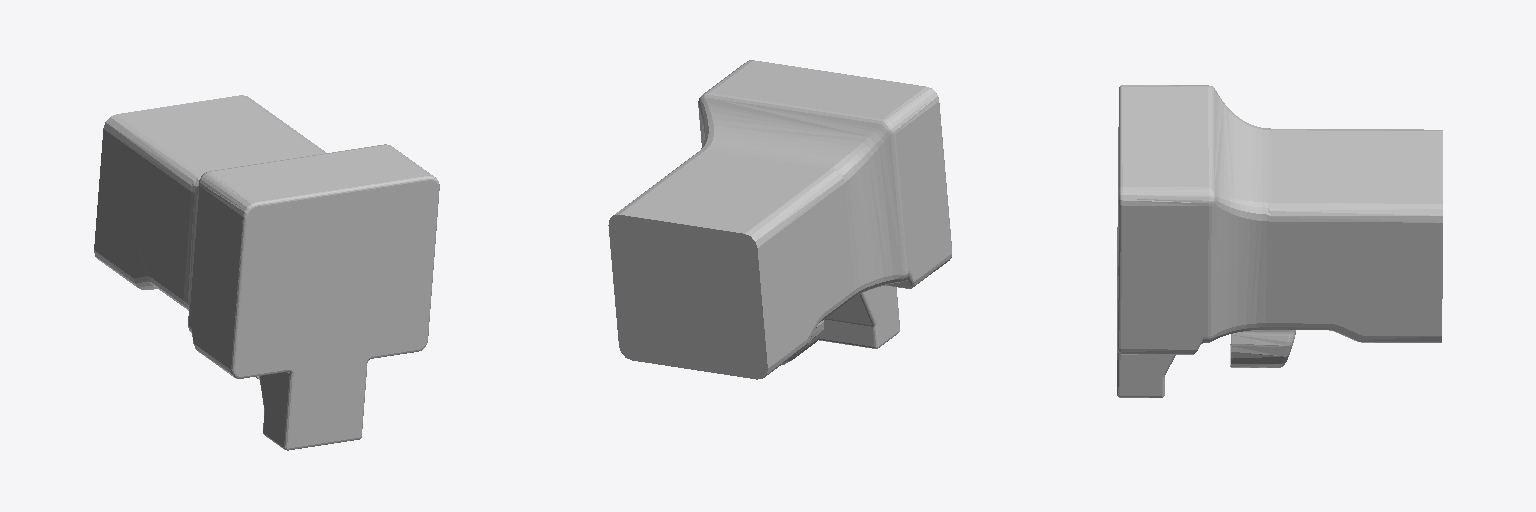
The model's file is torso_lift_with_arm.obj.
3 renders of one model, left to right at view 1: azimuth 30°, elevation 25°; view 2: azimuth 150°, elevation 25°; view 3: azimuth 270°, elevation 25°, orthographic.
Parts seen in each view (by area): view 1: torso_lift_with_arm; view 2: torso_lift_with_arm; view 3: torso_lift_with_arm.
Part boxes in pixels (x1,y1,x2,y2): torso_lift_with_arm: (94,95,439,450); torso_lift_with_arm: (608,60,951,379); torso_lift_with_arm: (1117,85,1442,397).
Bounding box in the file's own units: 0.3497 × 0.4177 × 0.4731.